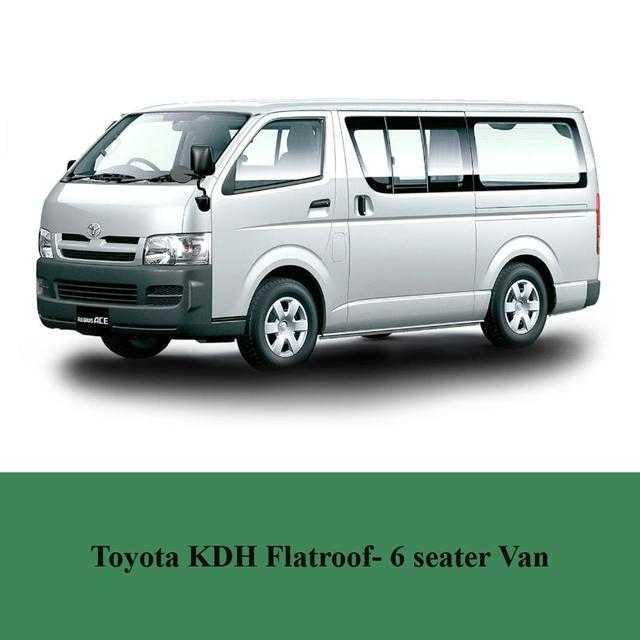car: (32, 99, 621, 369)
